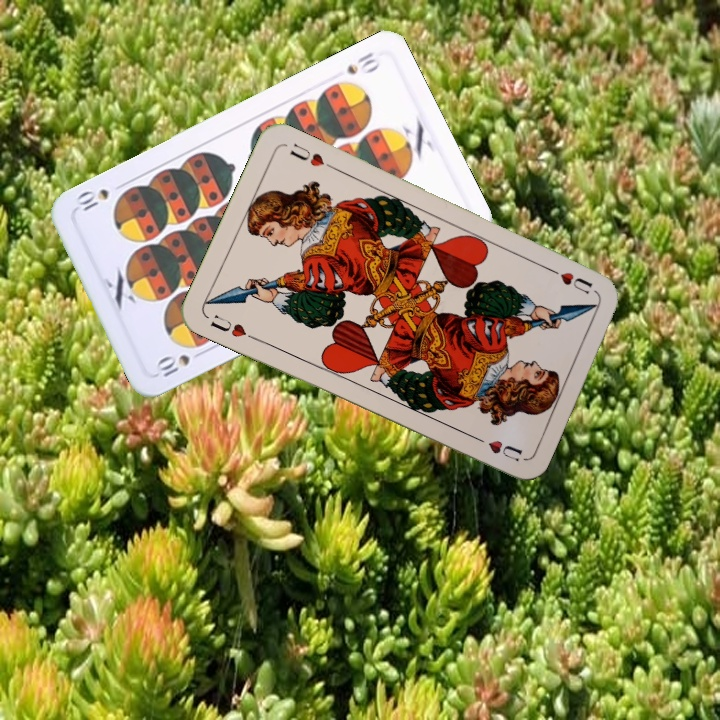HU: (206, 310, 259, 343), (556, 268, 595, 297)
S10: (151, 346, 208, 382), (342, 48, 383, 78)
